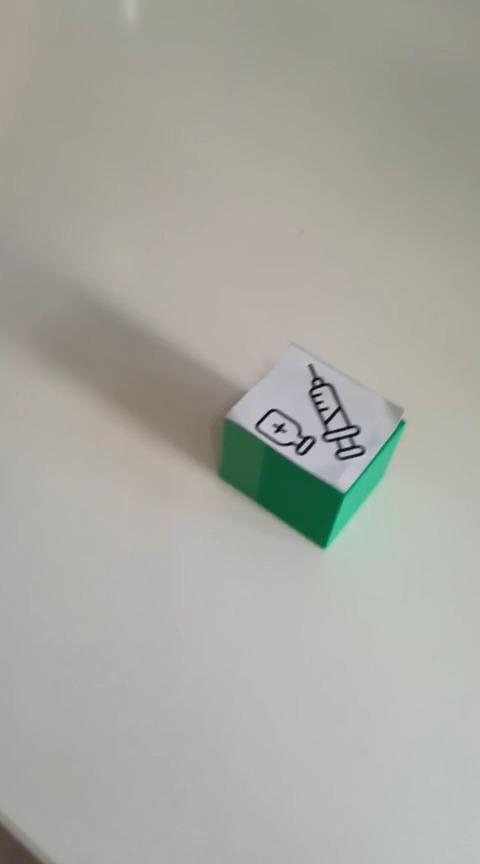antiseptic cream: (216, 341, 407, 550)
